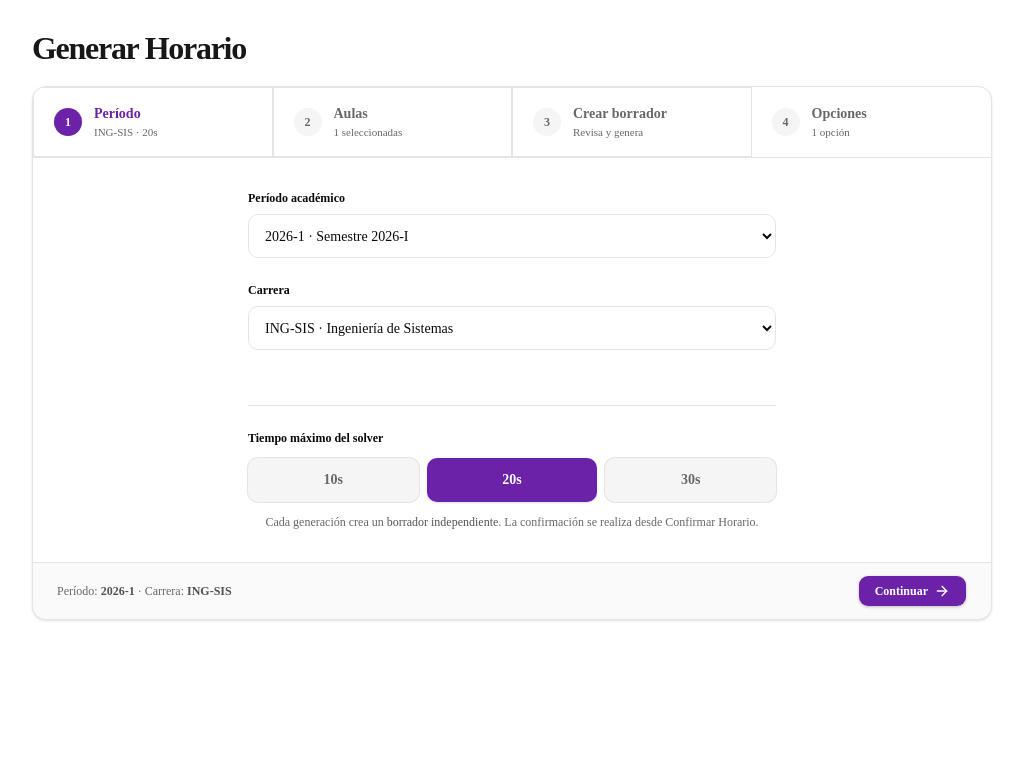
Scenario: GenerateScheduleScreen › filtra aulas por búsqueda en el paso 2
This screenshot has width=1024, height=768.
Select "2026-1 · Semestre 2026-I" in the dropdown named "Período académico" at (512, 236), box x1=248 y1=214 x2=776 y2=258
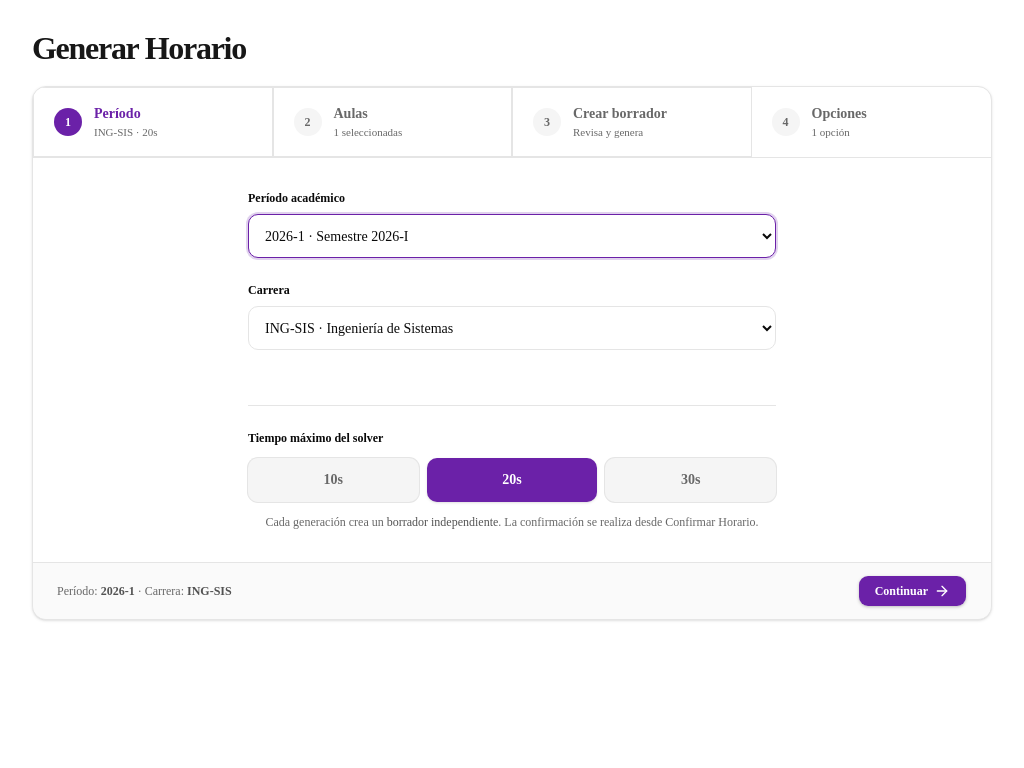
Select "ING-SIS · Ingeniería de Sistemas" in the dropdown named "Carrera" at (512, 328), box x1=248 y1=306 x2=776 y2=350
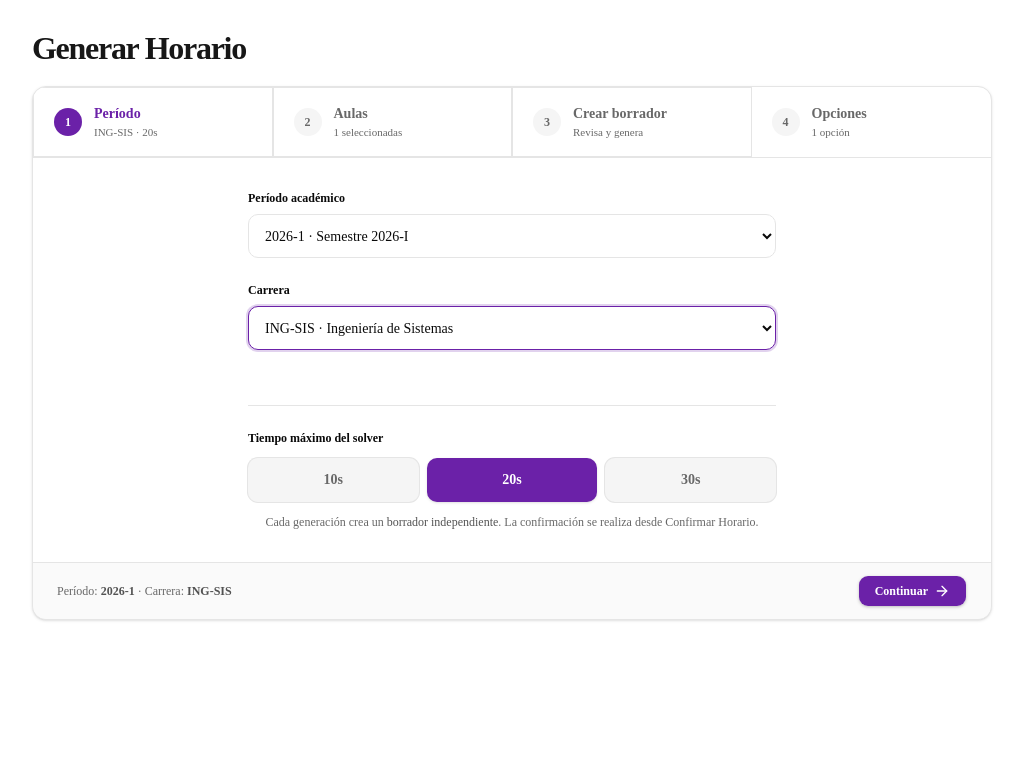
Click the button "Continuar" at (912, 591), box x1=858 y1=575 x2=967 y2=607
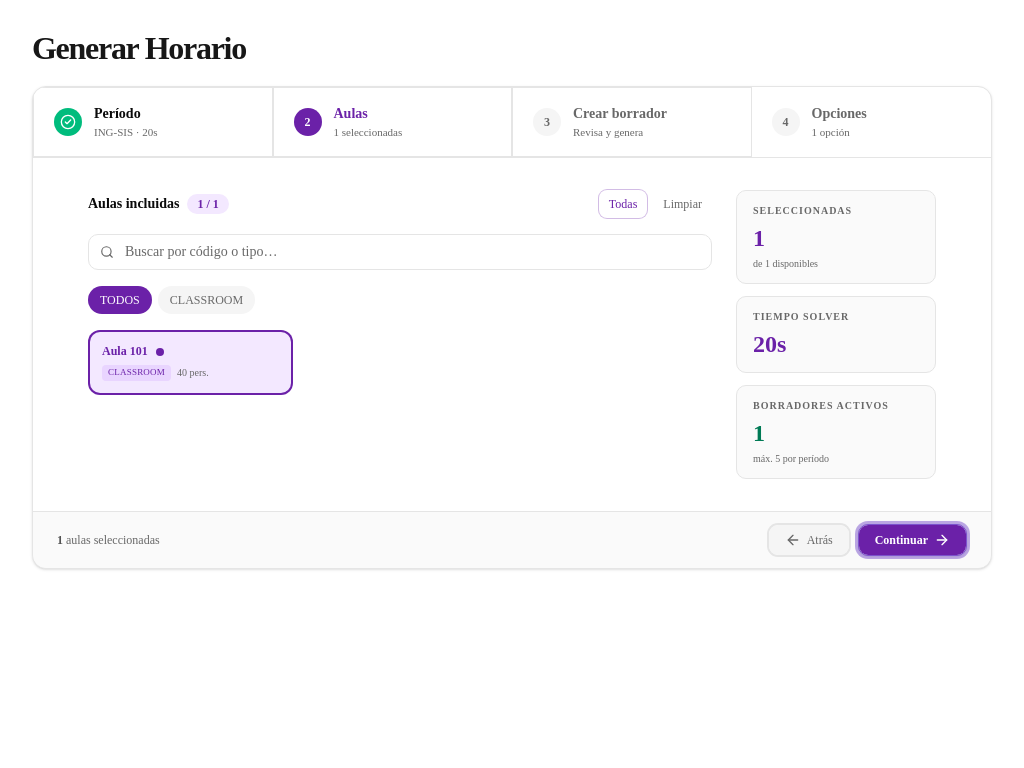
expect the field with placeholder "Buscar por código o tipo…" is shown: met
Type "ZZZ" into the field with placeholder "Buscar por código o tipo…" at (400, 252), box x1=88 y1=234 x2=712 y2=270
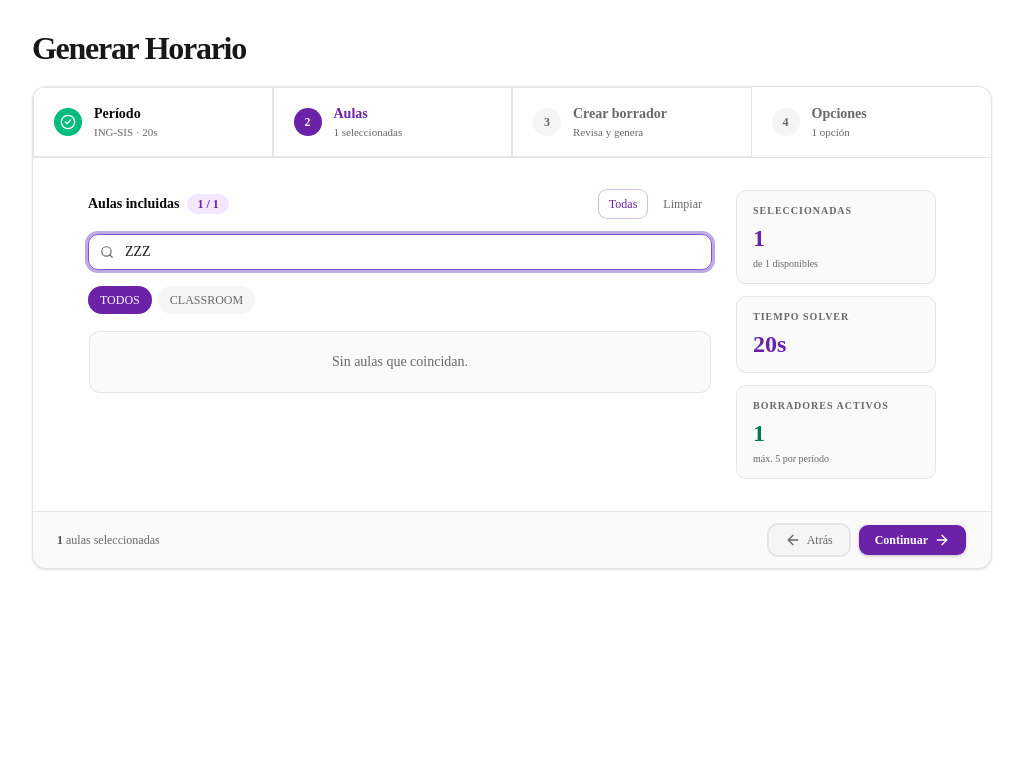
expect the text "Sin aulas que coincidan." is shown: met, box x1=90 y1=332 x2=710 y2=392
